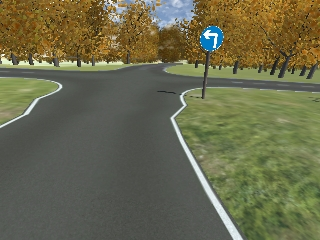left: (200, 25, 226, 51)
